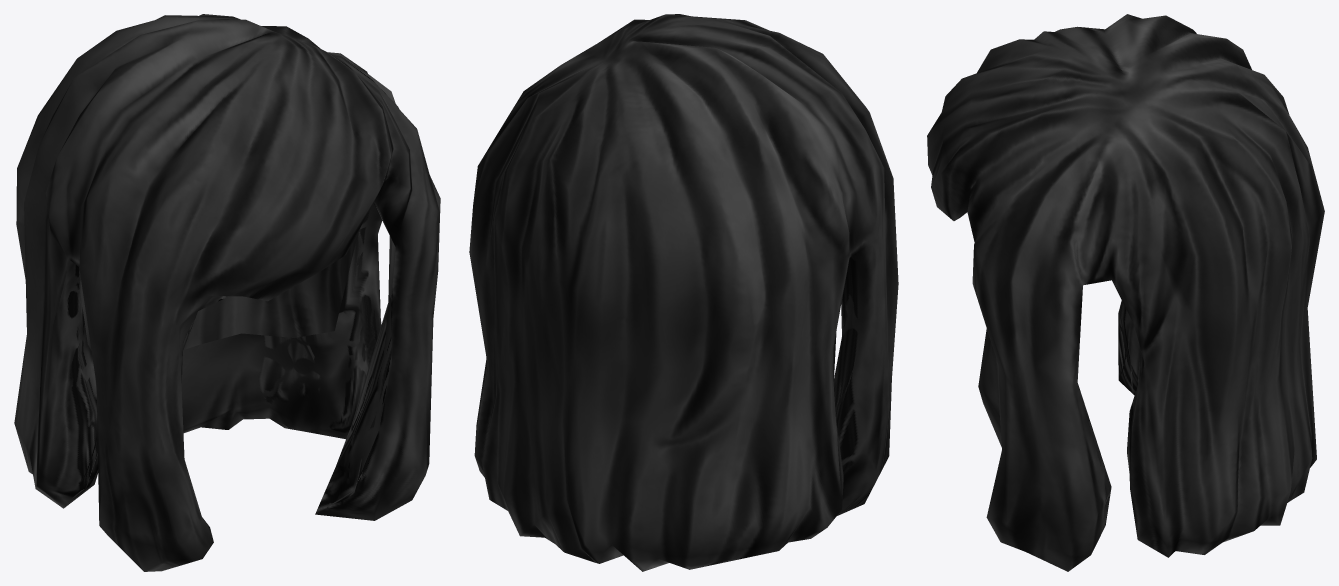
Rendered from AF_M_hair_G_25.fbx.
3 views of the same model, side by side, from view 1: azimuth 30°, elevation 25°; view 2: azimuth 150°, elevation 25°; view 3: azimuth 270°, elevation 25° (orthographic). The views are drawn at different scales.
Parts seen in each view (by area): view 1: AF_M_hair_G_25; view 2: AF_M_hair_G_25; view 3: AF_M_hair_G_25.
Boxes of the visible parts, x1,y1,x2,y2 form: AF_M_hair_G_25: [14, 14, 440, 571]; AF_M_hair_G_25: [469, 14, 898, 571]; AF_M_hair_G_25: [927, 14, 1324, 571].
Size of the model in its own units: 731 by 972 by 729.
